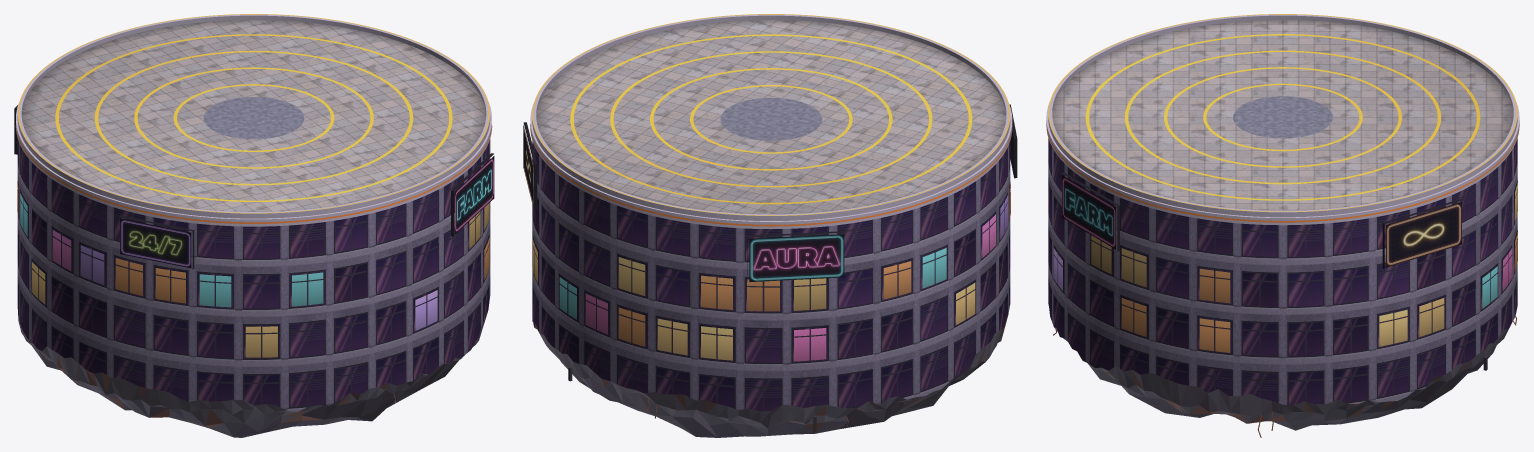
Rendered from island_royale.glb.
3 renders of one model, left to right at view 1: azimuth 30°, elevation 25°; view 2: azimuth 150°, elevation 25°; view 3: azimuth 270°, elevation 25°, orthographic.
Visible parts, largest first — view 1: Island, Lit_Windows, Lit_Signs, Neon_ffc93c, Neon_ff8a3d; view 2: Island, Lit_Windows, Lit_Signs, Neon_ffc93c, Neon_ff8a3d; view 3: Island, Lit_Windows, Lit_Signs, Neon_ffc93c, Neon_ff8a3d.
Boxes of the visible parts, <box> form: Island: <box>14,14,493,437</box>; Lit_Windows: <box>17,181,489,357</box>; Lit_Signs: <box>120,156,494,268</box>; Neon_ffc93c: <box>18,14,489,213</box>; Neon_ff8a3d: <box>15,126,492,223</box>; Island: <box>523,14,1017,437</box>; Lit_Windows: <box>532,182,1010,361</box>; Lit_Signs: <box>523,125,844,281</box>; Neon_ffc93c: <box>532,14,1009,215</box>; Neon_ff8a3d: <box>530,125,1012,226</box>; Island: <box>1046,14,1519,437</box>; Lit_Windows: <box>1053,181,1517,352</box>; Lit_Signs: <box>1062,175,1461,267</box>; Neon_ffc93c: <box>1048,14,1517,211</box>; Neon_ff8a3d: <box>1046,126,1519,222</box>.
Bounding box in the file's own units: 30.27 × 20.51 × 30.27.
Materials: 8 (4 with a texture image).
